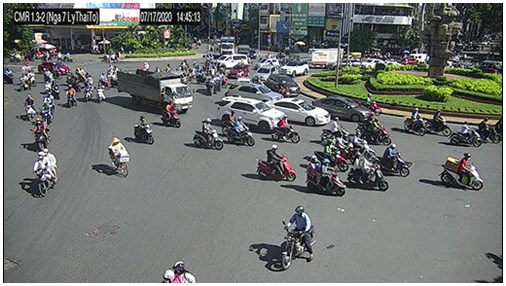xe_ba_gac: (204, 72, 221, 96)
xe_hoi: (216, 96, 286, 135), (265, 97, 331, 127), (310, 96, 373, 122), (227, 83, 284, 106), (266, 73, 301, 98), (279, 60, 311, 77), (212, 53, 248, 68), (251, 65, 279, 83), (230, 60, 250, 79)
xe_may: (280, 205, 316, 271), (438, 152, 484, 192), (347, 152, 389, 192), (306, 155, 345, 198), (256, 146, 296, 183), (31, 148, 59, 196), (375, 144, 410, 178), (191, 117, 223, 151), (315, 139, 348, 171), (347, 128, 376, 161), (321, 116, 351, 146), (226, 117, 255, 148), (357, 117, 391, 143), (271, 114, 300, 144), (401, 107, 429, 138), (450, 122, 481, 148), (473, 117, 501, 145), (425, 109, 452, 138), (133, 114, 156, 147), (32, 117, 50, 152), (223, 110, 246, 136), (160, 100, 181, 128), (359, 94, 382, 118), (22, 94, 37, 122), (39, 101, 52, 126), (277, 80, 292, 101), (44, 90, 56, 116), (66, 83, 78, 109), (42, 64, 55, 86), (95, 81, 105, 105), (98, 70, 110, 90), (19, 73, 31, 92), (83, 81, 92, 103), (62, 48, 73, 63)
xe_tai: (116, 67, 193, 114), (295, 45, 342, 70)
